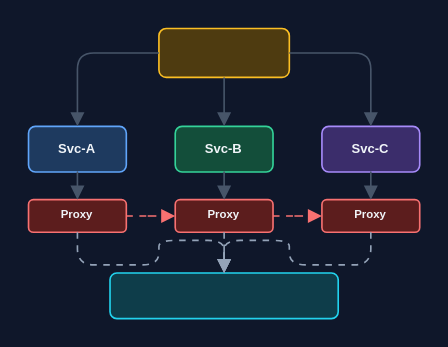
Some shapes in this 448 by 347 pixel diagram are drawn without their labels. Each missing label, with the box of its shape:
Control Plane: (108, 271, 338, 319)
Gateway: (157, 27, 289, 77)
